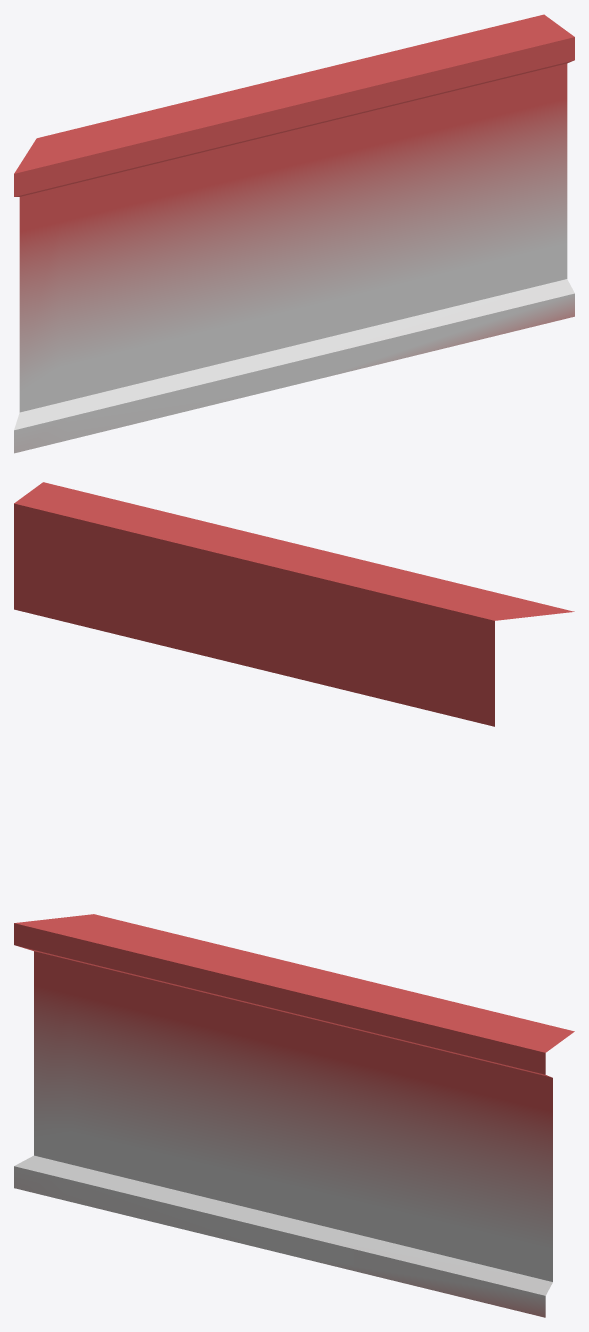
File: Cornice_Metal_L.gltf
3 renders of one model, top to bottom at view 1: azimuth 30°, elevation 25°; view 2: azimuth 150°, elevation 25°; view 3: azimuth 330°, elevation 25°, orthographic. The views are drawn at different scales.
Visible parts, largest first — view 1: Cornice_Metal_L; view 2: Cornice_Metal_L; view 3: Cornice_Metal_L.
Boxes of the visible parts, bbox=[...] form: Cornice_Metal_L: bbox=[14, 14, 574, 453]; Cornice_Metal_L: bbox=[14, 482, 574, 726]; Cornice_Metal_L: bbox=[14, 914, 574, 1317].
Bounding box in the file's own units: 2.1 × 1 × 0.2.
